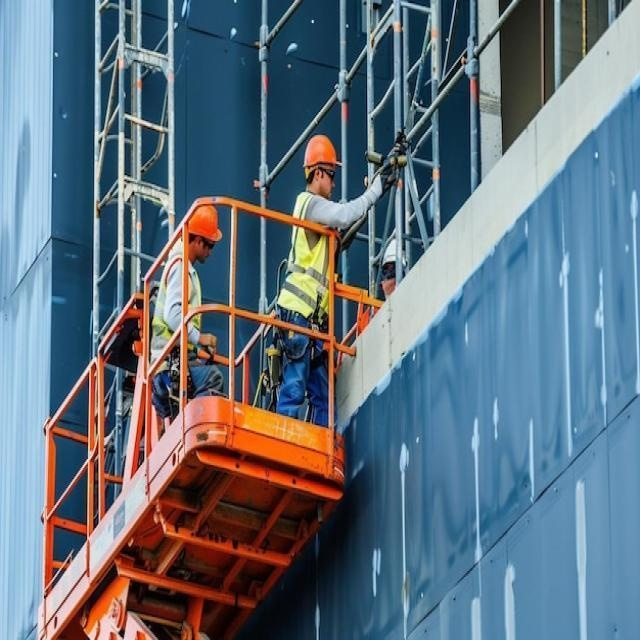Arnes_seguridad: (278, 288, 332, 367)
